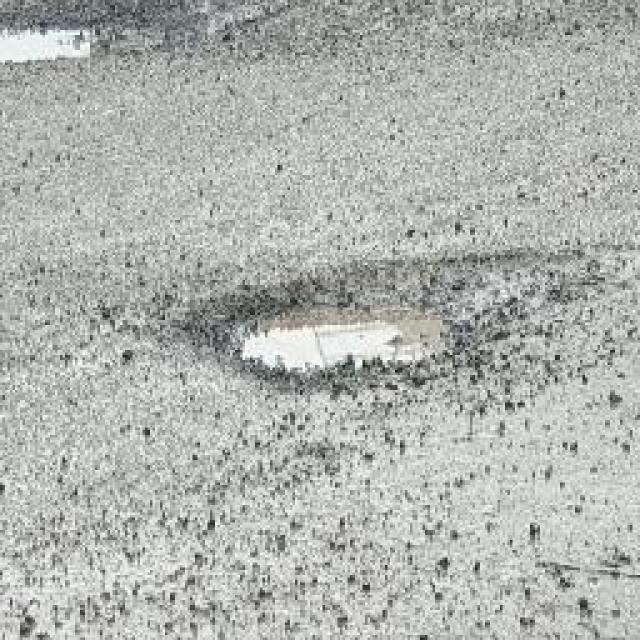stagnation: (219, 280, 456, 384)
